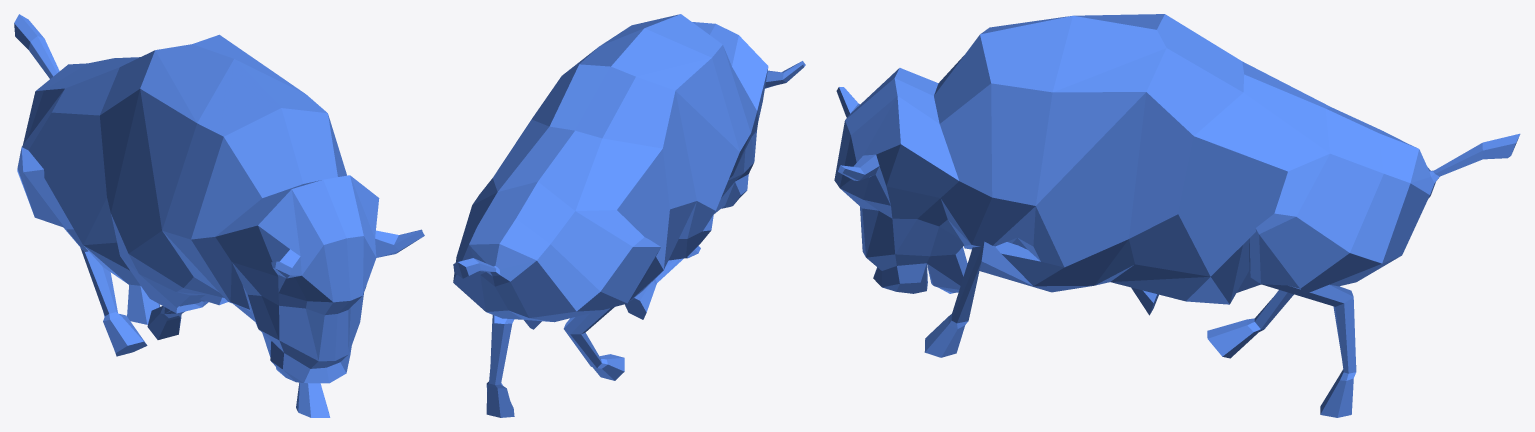
The model's file is bison_005.obj.
The picture shows the model from 3 angles, left to right: view 1: azimuth 30°, elevation 25°; view 2: azimuth 150°, elevation 25°; view 3: azimuth 270°, elevation 25°; orthographic projection. The views are drawn at different scales.
Visible parts, largest first — view 1: comp_bison_rig:bison_body comp_bison_rig:bison; view 2: comp_bison_rig:bison_body comp_bison_rig:bison; view 3: comp_bison_rig:bison_body comp_bison_rig:bison.
Boxes of the visible parts, box(x1,y1,x2,y2) form: comp_bison_rig:bison_body comp_bison_rig:bison: box(14, 14, 424, 417); comp_bison_rig:bison_body comp_bison_rig:bison: box(453, 14, 805, 417); comp_bison_rig:bison_body comp_bison_rig:bison: box(834, 14, 1520, 417).
Size of the model in its own units: 121 by 191 by 318.
